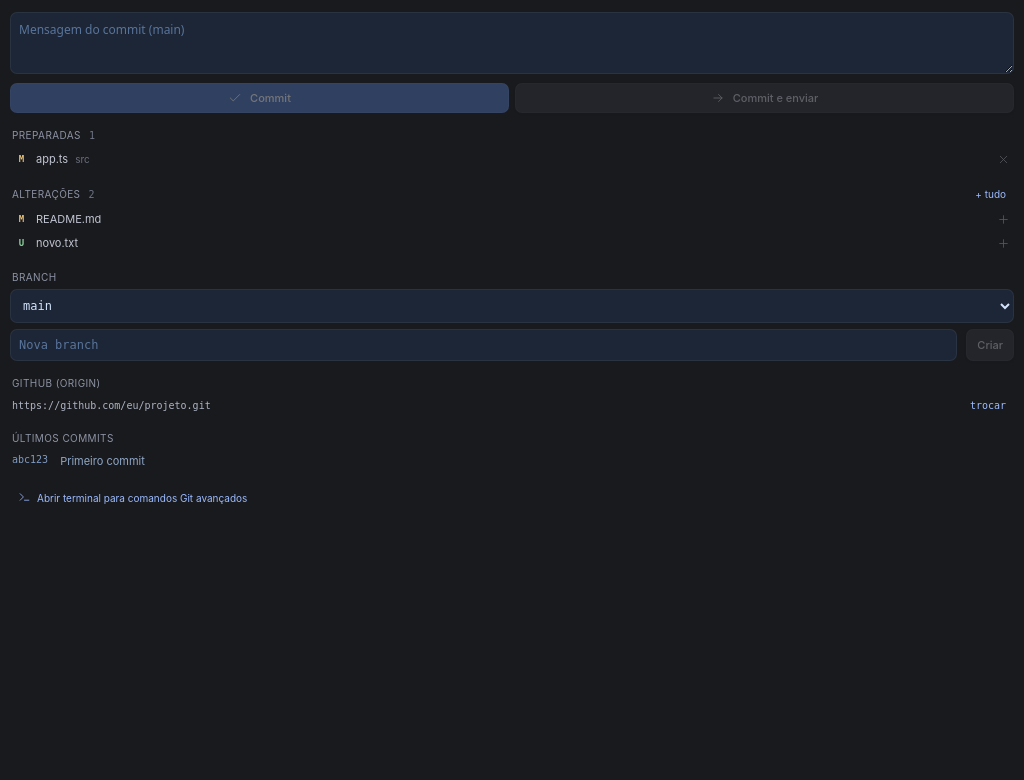
Painel Git › com remoto mostra a URL e permite trocar
expect the text "https://github.com/eu/projeto.git" is shown: met, box [12,400,211,411]
Click the button "trocar": (988, 406) [964,399,1012,412]
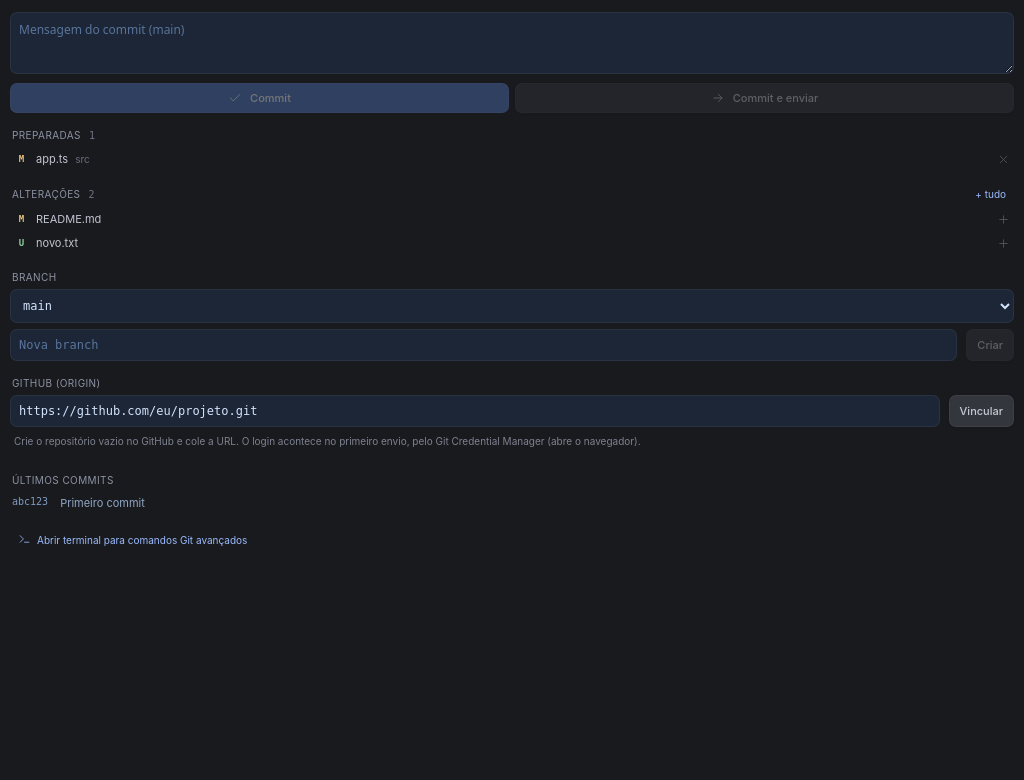
expect the field with placeholder "https://github.com/usuario/repo.git" holds "https://github.com/eu/projeto.git": met, box [10,395,940,427]
